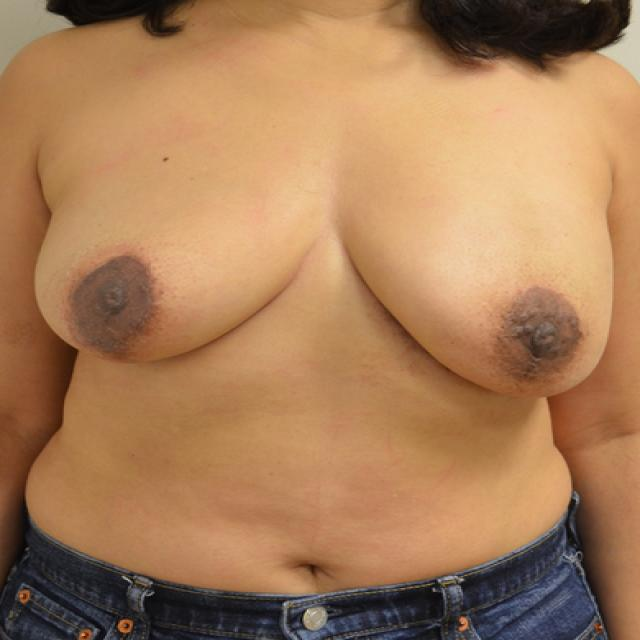Seno ileso: (336, 131, 622, 416), (26, 130, 318, 379)
